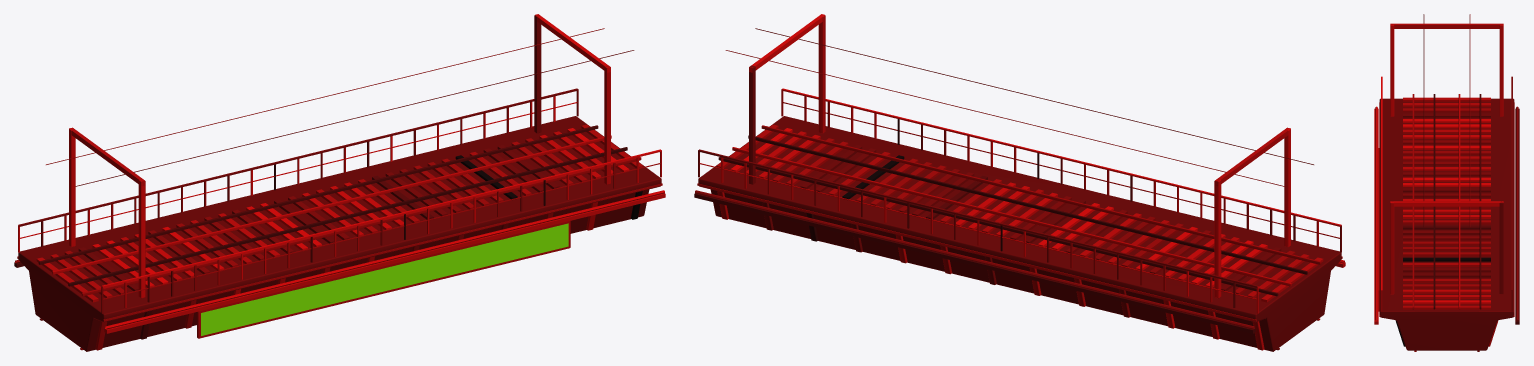
Rendered from rail_girder.glb.
The picture shows the model from 3 angles, left to right: view 1: azimuth 30°, elevation 25°; view 2: azimuth 150°, elevation 25°; view 3: azimuth 270°, elevation 25°; orthographic projection. The views are drawn at different scales.
Visible parts, largest first — view 1: rail_girder; view 2: rail_girder; view 3: rail_girder.
Part boxes in pixels (left/top/right/bottom): rail_girder: left=14, top=14, right=665, bottom=351; rail_girder: left=694, top=14, right=1345, bottom=351; rail_girder: left=1374, top=14, right=1519, bottom=351.
Size of the model in its own units: 24.06 by 6.94 by 6.9.
